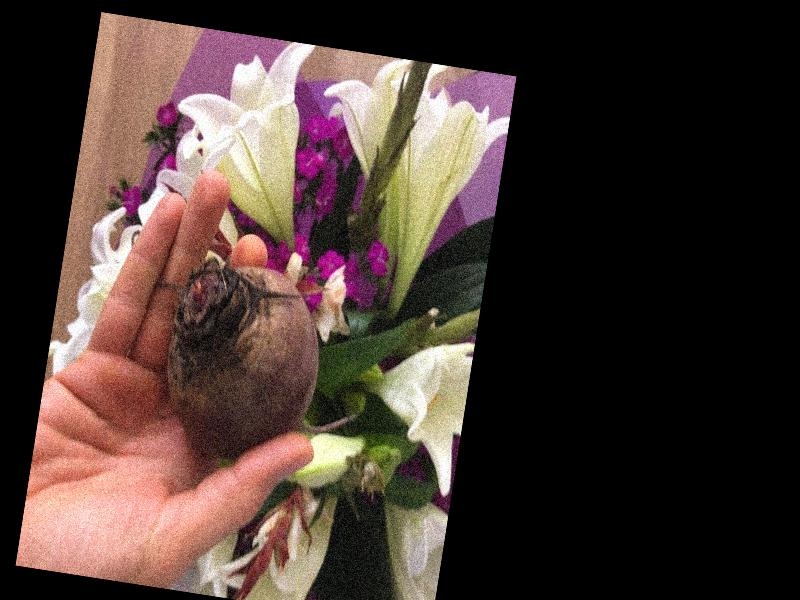Beet: (153, 254, 378, 477)
